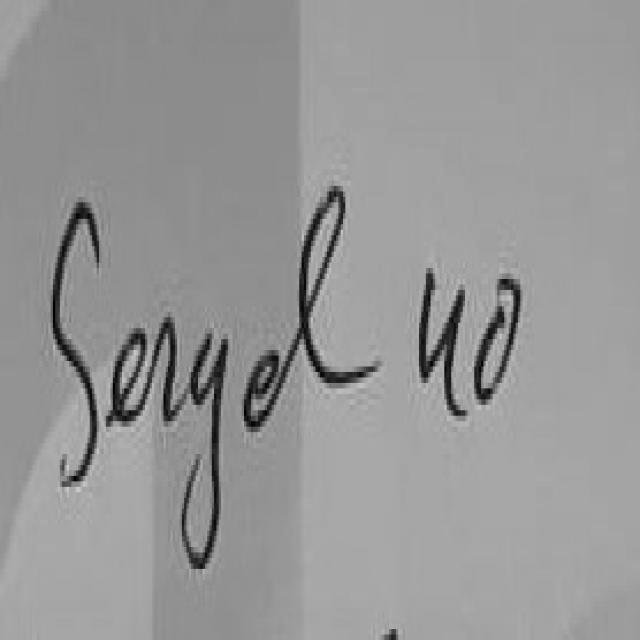0: (477, 279, 521, 402)
4: (421, 268, 472, 422)
S: (53, 195, 103, 487)
e: (111, 328, 147, 428), (244, 350, 281, 429)
g: (182, 334, 228, 574)
l: (274, 186, 378, 391)
r: (139, 310, 186, 418)
